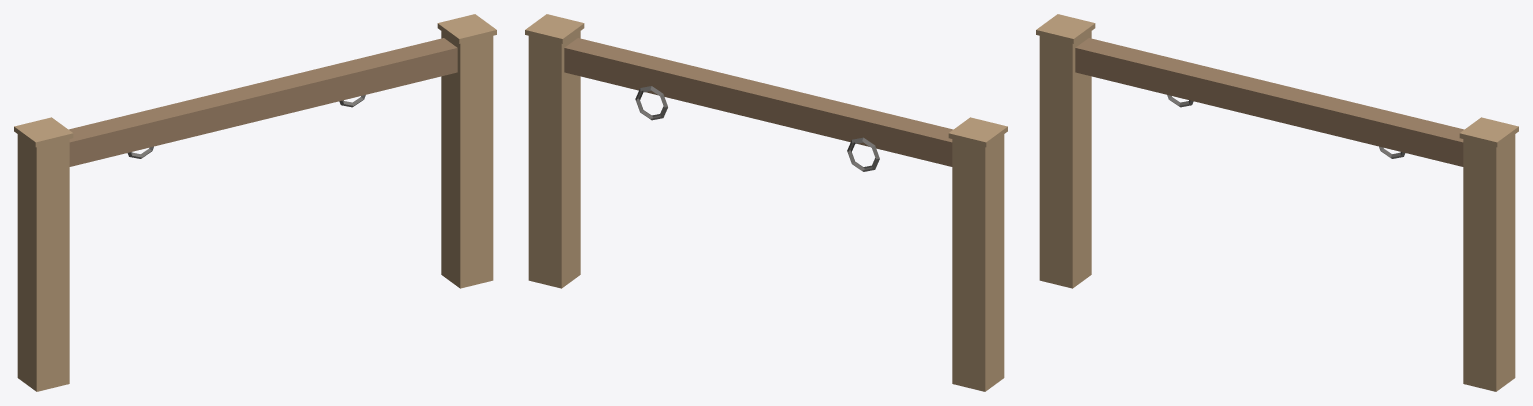
The model's file is prop-hitching-post.fbx.
3 views of the same model, side by side, from view 1: azimuth 30°, elevation 25°; view 2: azimuth 150°, elevation 25°; view 3: azimuth 330°, elevation 25° (orthographic).
Parts seen in each view (by area): view 1: prop-hitching-post; view 2: prop-hitching-post; view 3: prop-hitching-post.
Boxes of the visible parts, bbox=[...] form: prop-hitching-post: bbox=[14, 14, 496, 391]; prop-hitching-post: bbox=[525, 14, 1007, 391]; prop-hitching-post: bbox=[1036, 14, 1518, 391].
Size of the model in its own units: 1.96 by 1.02 by 0.16.
